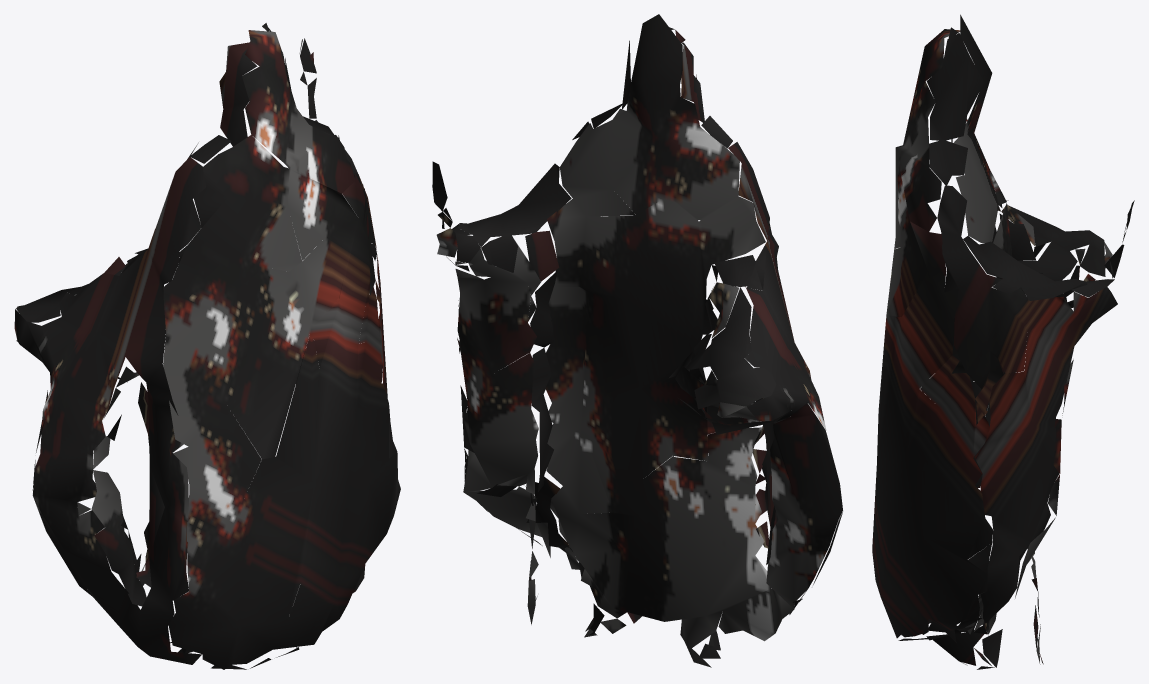
3 views of the same model, side by side, from view 1: azimuth 30°, elevation 25°; view 2: azimuth 150°, elevation 25°; view 3: azimuth 270°, elevation 25° (orthographic).
Parts seen in each view (by area): view 1: body.002; view 2: body.002; view 3: body.002.
Part boxes in pixels (<box>): body.002: <box>14,23,400,669</box>; body.002: <box>432,14,842,667</box>; body.002: <box>872,14,1134,669</box>.
Bounding box in the file's own units: 1.22 × 1.98 × 0.7503.
Materials: 1 (1 with a texture image).
